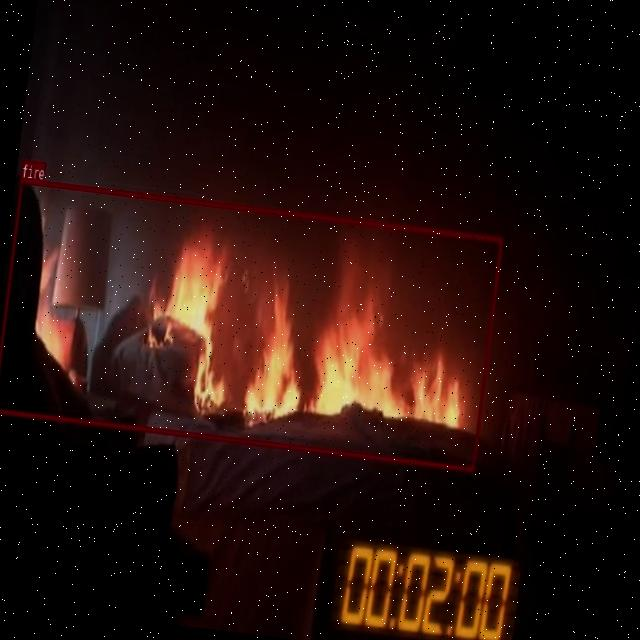fire: (0, 177, 502, 470)
